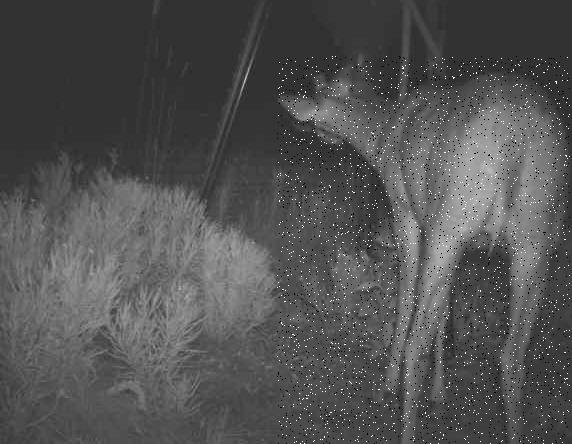Deer: (277, 56, 570, 444)
